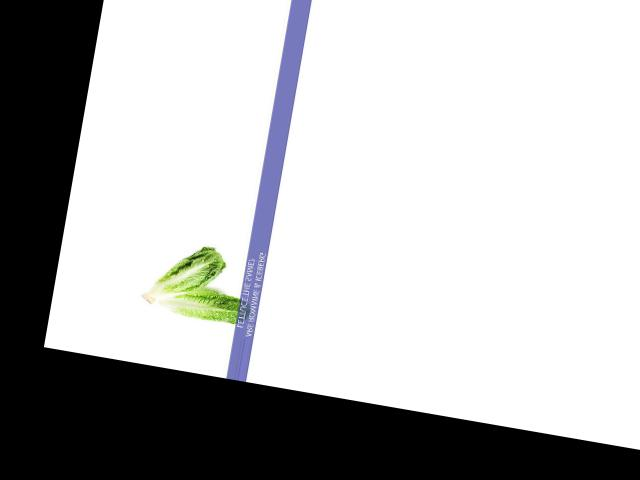lettuce: (140, 238, 234, 319)
